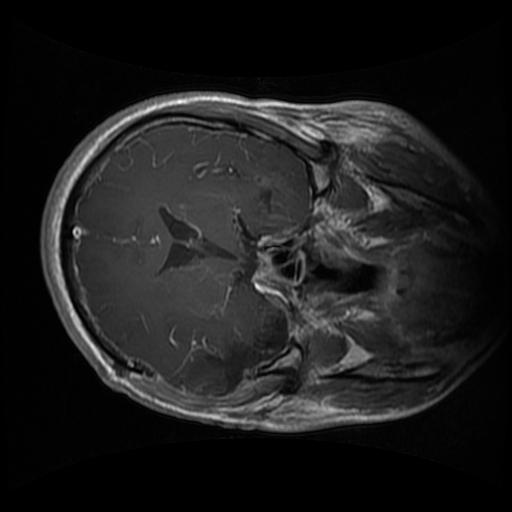glioma: (198, 301, 289, 393)
